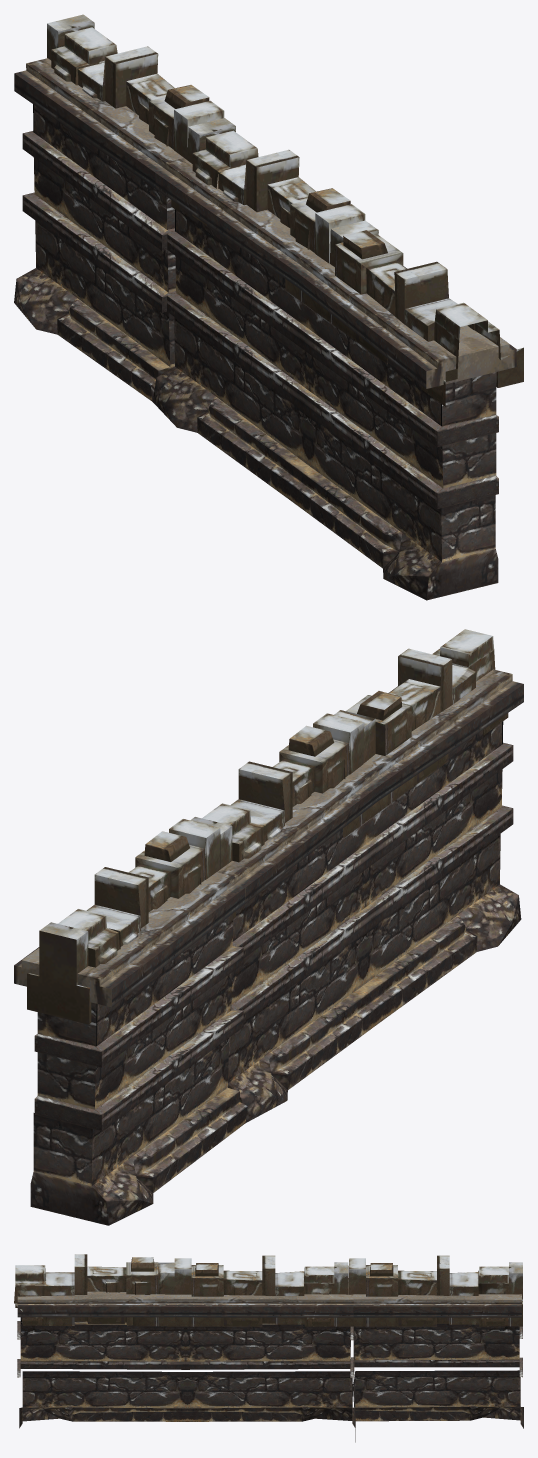
File: 5014_Item_qiang_1.FBX
3 views of the same model, one above another, from view 1: azimuth 30°, elevation 25°; view 2: azimuth 150°, elevation 25°; view 3: azimuth 270°, elevation 25° (orthographic). The views are drawn at different scales.
Parts seen in each view (by area): view 1: 5014_Item_qiang_1; view 2: 5014_Item_qiang_1; view 3: 5014_Item_qiang_1.
Boxes of the visible parts, x1,y1,x2,y2 form: 5014_Item_qiang_1: (14,14,523,600); 5014_Item_qiang_1: (14,629,523,1225); 5014_Item_qiang_1: (14,1254,523,1442).
Size of the model in its own units: 301 by 702 by 1857.
